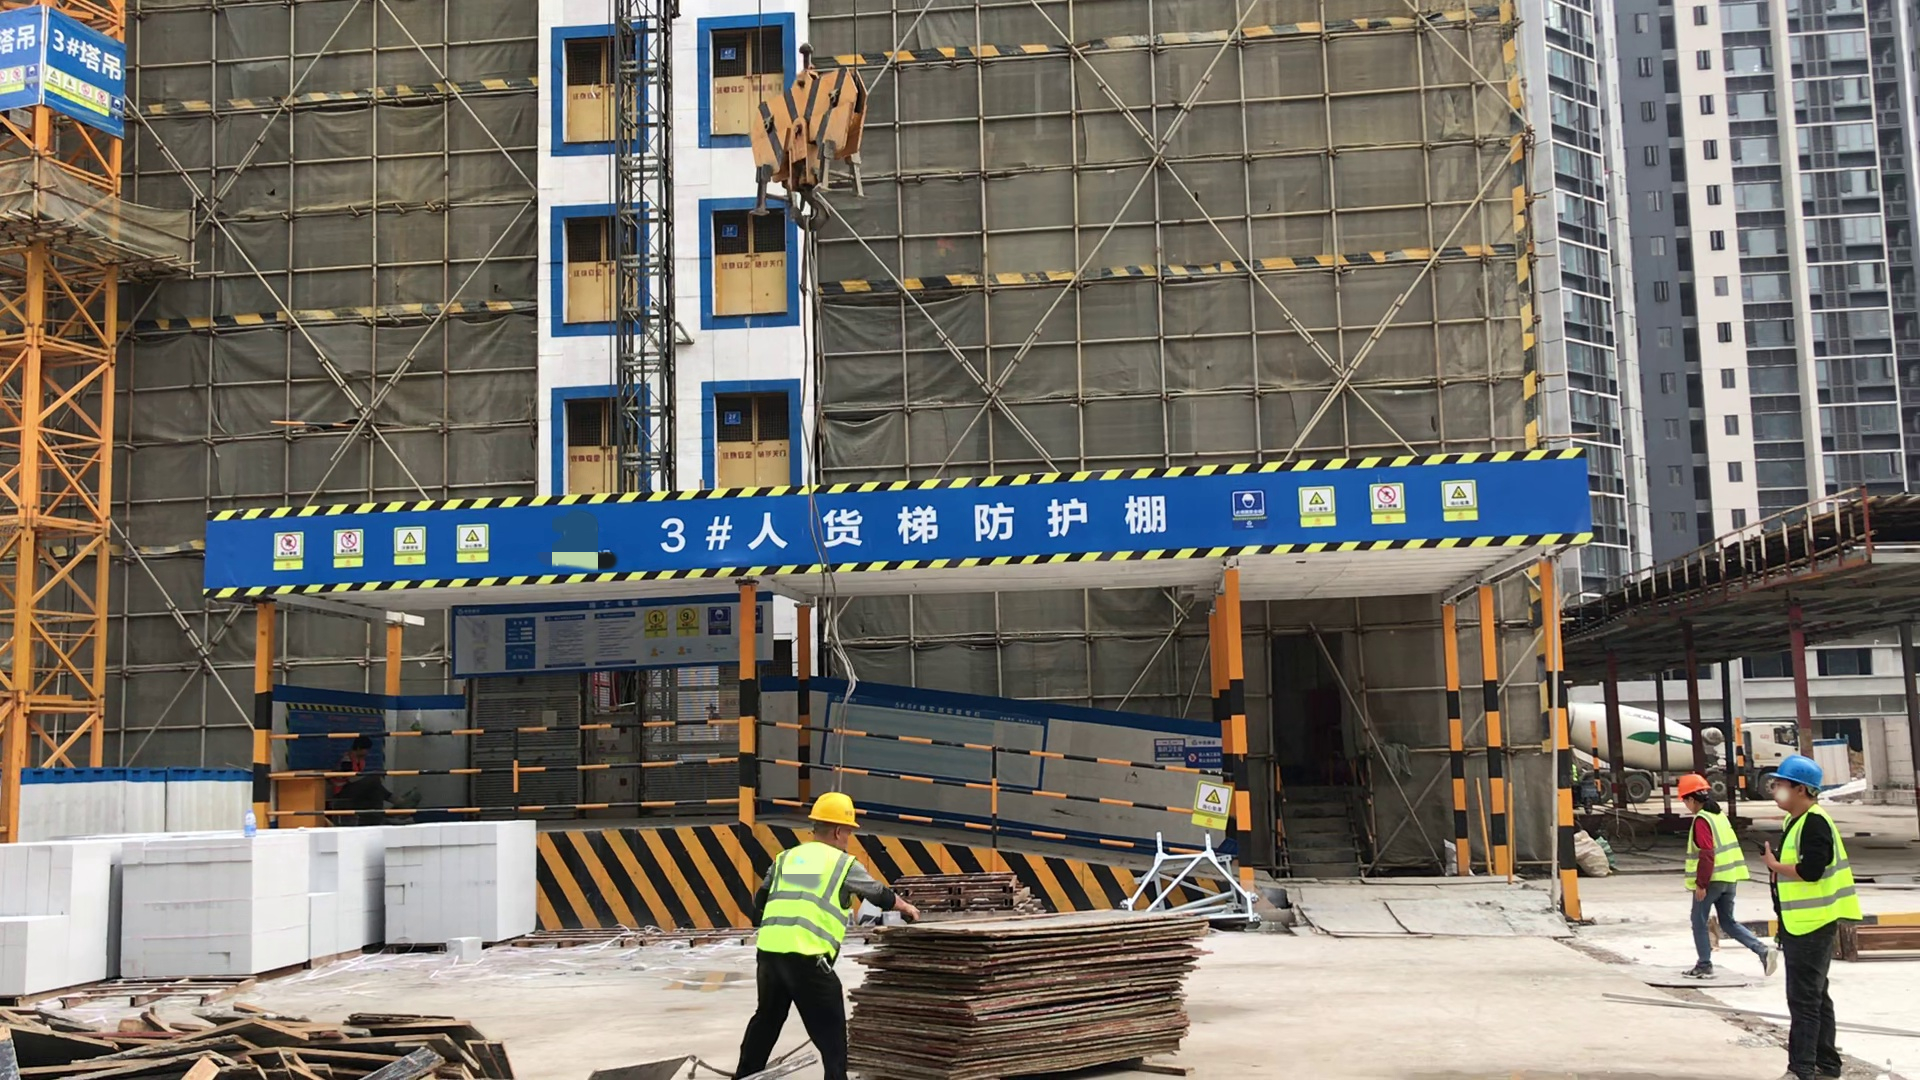board: (843, 913, 1214, 1079)
brick: (4, 816, 535, 993)
helmet: (808, 792, 858, 832), (1773, 755, 1822, 789), (1676, 774, 1712, 800)
hook: (746, 69, 874, 236)
person: (747, 789, 916, 1080), (1767, 758, 1864, 1080), (1675, 769, 1784, 980)
slogan: (1226, 480, 1487, 525), (266, 523, 499, 568), (644, 602, 765, 658), (44, 68, 111, 112), (1150, 737, 1221, 770), (1193, 780, 1235, 831), (1, 67, 28, 94)
vest: (1771, 805, 1862, 934), (758, 843, 853, 958), (1684, 809, 1749, 889)
